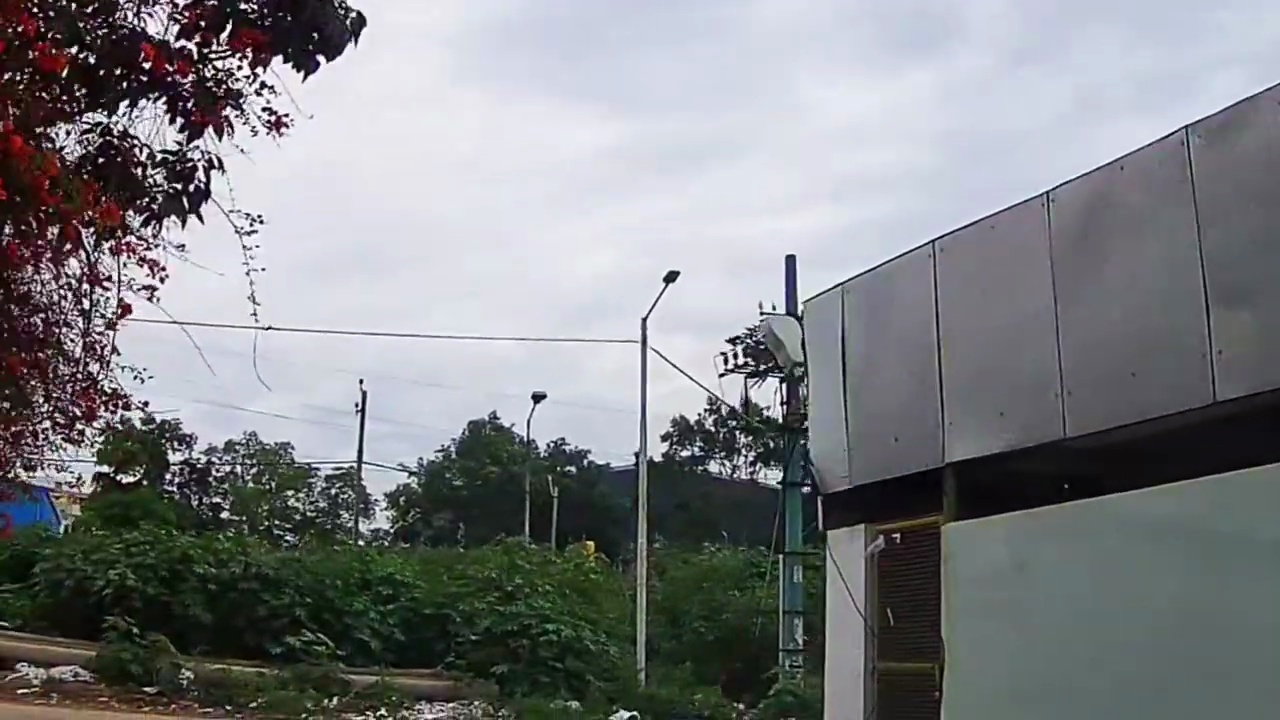garbage: (4, 639, 108, 713), (310, 685, 510, 718), (607, 698, 640, 716)
